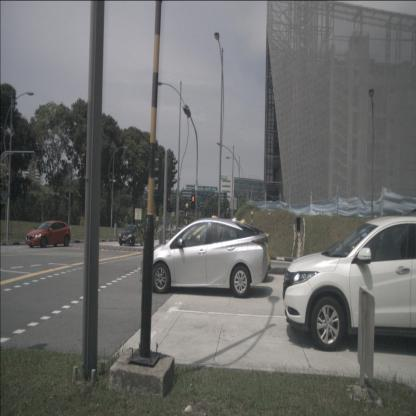vehicle-car: (283, 215, 416, 352), (140, 218, 268, 298), (25, 220, 71, 248), (118, 224, 144, 247)
